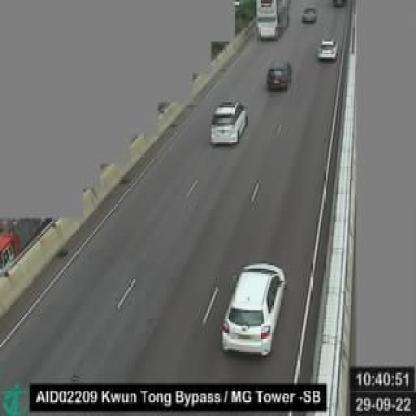Bus: (249, 0, 290, 43)
Car: (217, 252, 285, 374), (205, 97, 247, 149), (260, 56, 298, 97), (314, 33, 340, 64), (298, 2, 321, 29)
